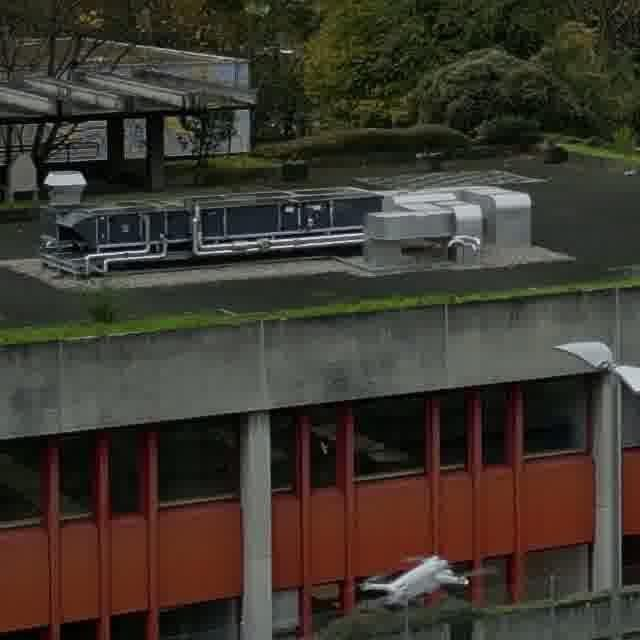Drohne: (360, 554, 488, 606)
